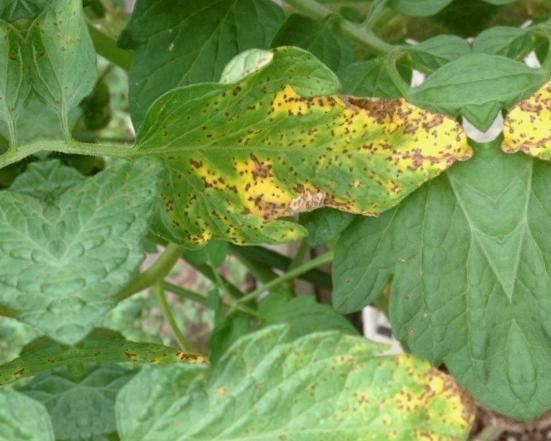Tomato Septoria leaf spot: (115, 14, 489, 264), (104, 282, 499, 441)
